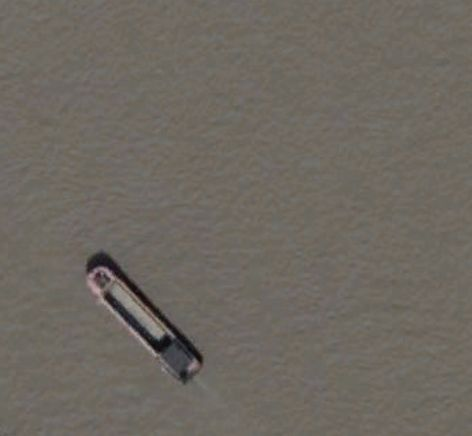boat: (82, 259, 205, 386)
